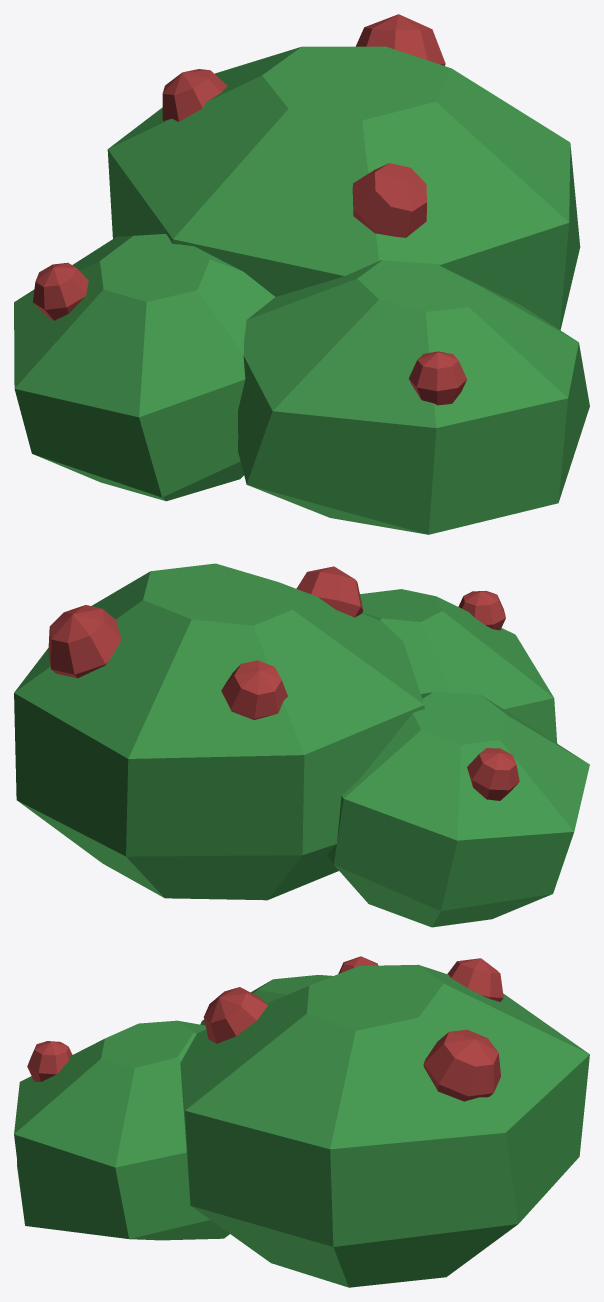
File: Bush.fbx
The picture shows the model from 3 angles, top to bottom: view 1: azimuth 30°, elevation 25°; view 2: azimuth 150°, elevation 25°; view 3: azimuth 270°, elevation 25°; orthographic projection. The views are drawn at different scales.
Visible parts, largest first — view 1: Bush; view 2: Bush; view 3: Bush.
Boxes of the visible parts, x1,y1,x2,y2 form: Bush: [14, 14, 589, 534]; Bush: [14, 563, 589, 927]; Bush: [14, 956, 589, 1287].
Size of the model in its own units: 9.04 by 4.84 by 9.26.
